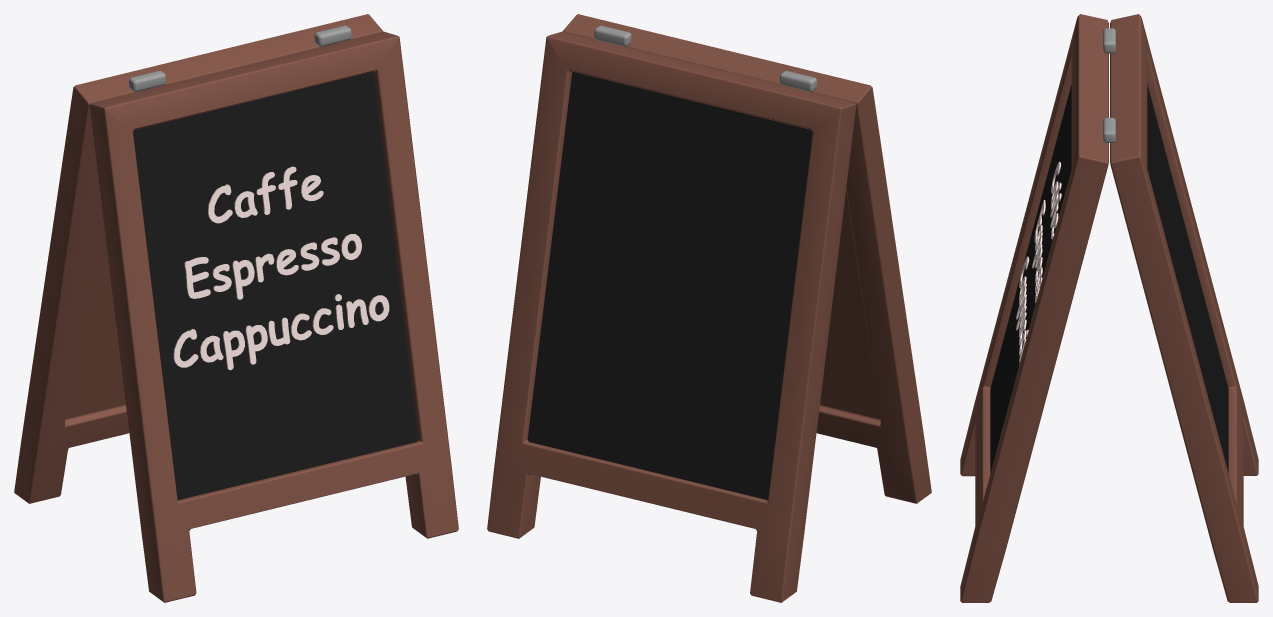
Rendered from City_9_Board_Caffe_1.glb.
The picture shows the model from 3 angles, left to right: view 1: azimuth 30°, elevation 25°; view 2: azimuth 150°, elevation 25°; view 3: azimuth 270°, elevation 25°; orthographic projection.
Visible parts, largest first — view 1: City_9_Board_Caffe_1; view 2: City_9_Board_Caffe_1; view 3: City_9_Board_Caffe_1.
Boxes of the visible parts, bbox=[...] form: City_9_Board_Caffe_1: bbox=[14, 14, 458, 602]; City_9_Board_Caffe_1: bbox=[487, 14, 931, 602]; City_9_Board_Caffe_1: bbox=[960, 14, 1258, 602].
Size of the model in its own units: 0.8909 by 1.32 by 0.7851.
Materials: 1 (1 with a texture image).
